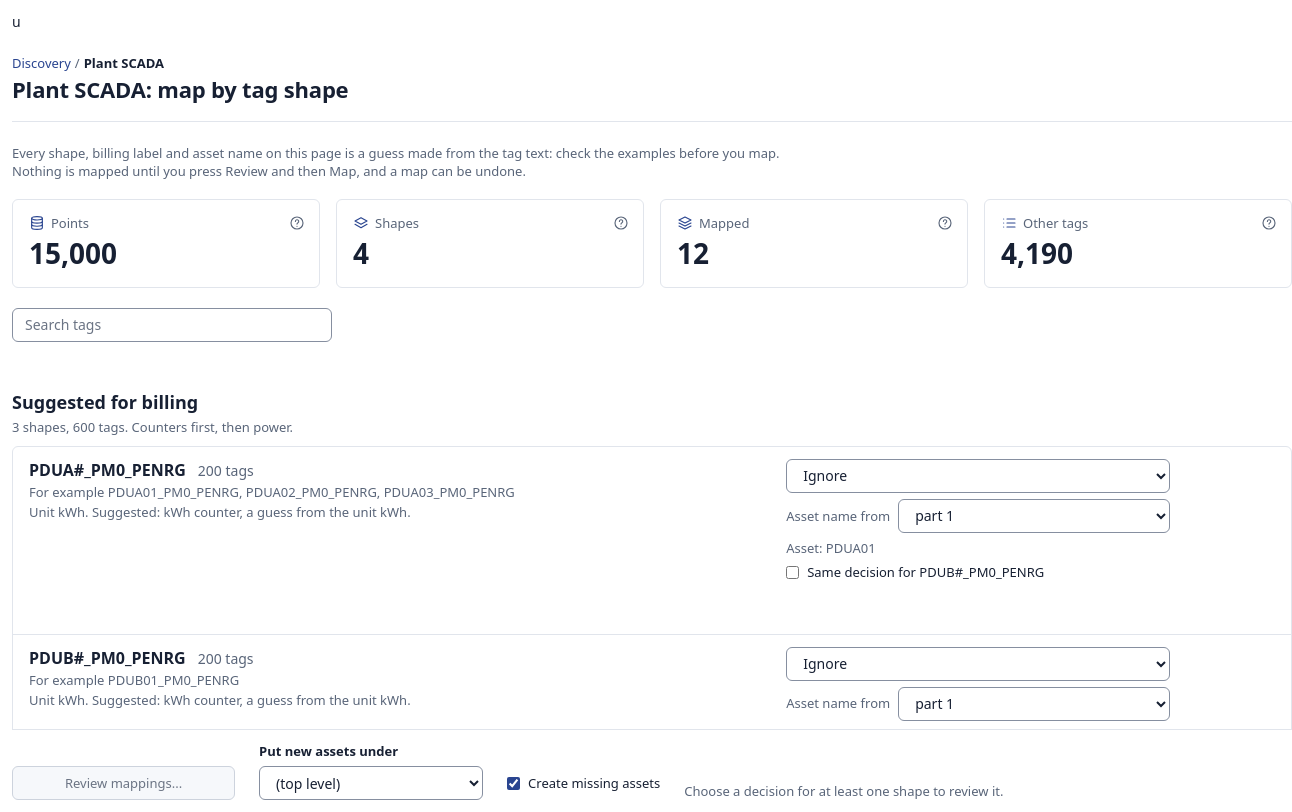
SourceShapesPage: the decisions › ticks Same decision for the similar shape: it copies the decision, keeps it in step while ticked and lets go when unticked
Expected: the heading "Plant SCADA: map by tag shape" is shown, [12, 74, 348, 104]
Expected: the element named "Shape PDUA#_PM0_PENRG" is shown, [13, 447, 1291, 635]
Select "Map as energy counter" in the dropdown named "Decision for PDUA#_PM0_PENRG" at (978,476), box [786, 459, 1170, 493]
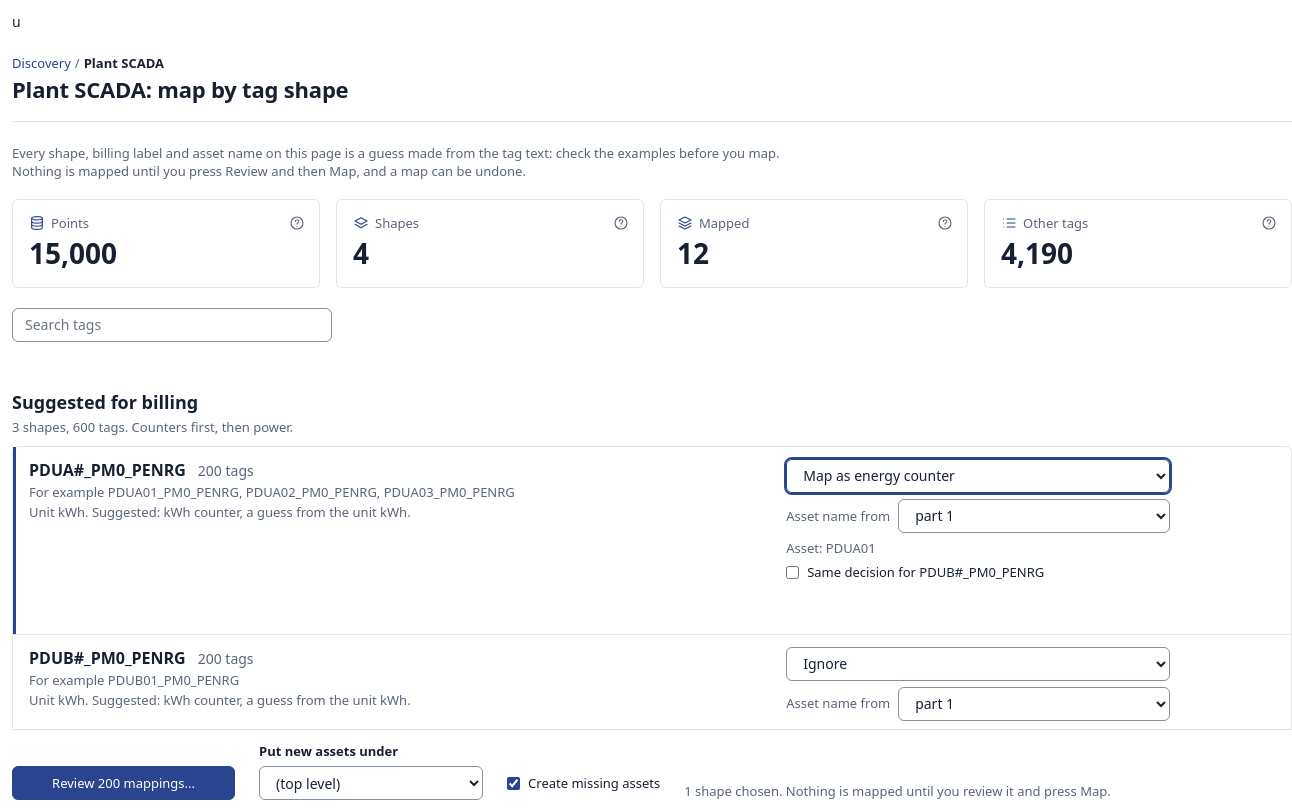
Click the checkbox labelled "Same decision for PDUB#_PM0_PENRG" at (793,572), box [786, 566, 799, 579]
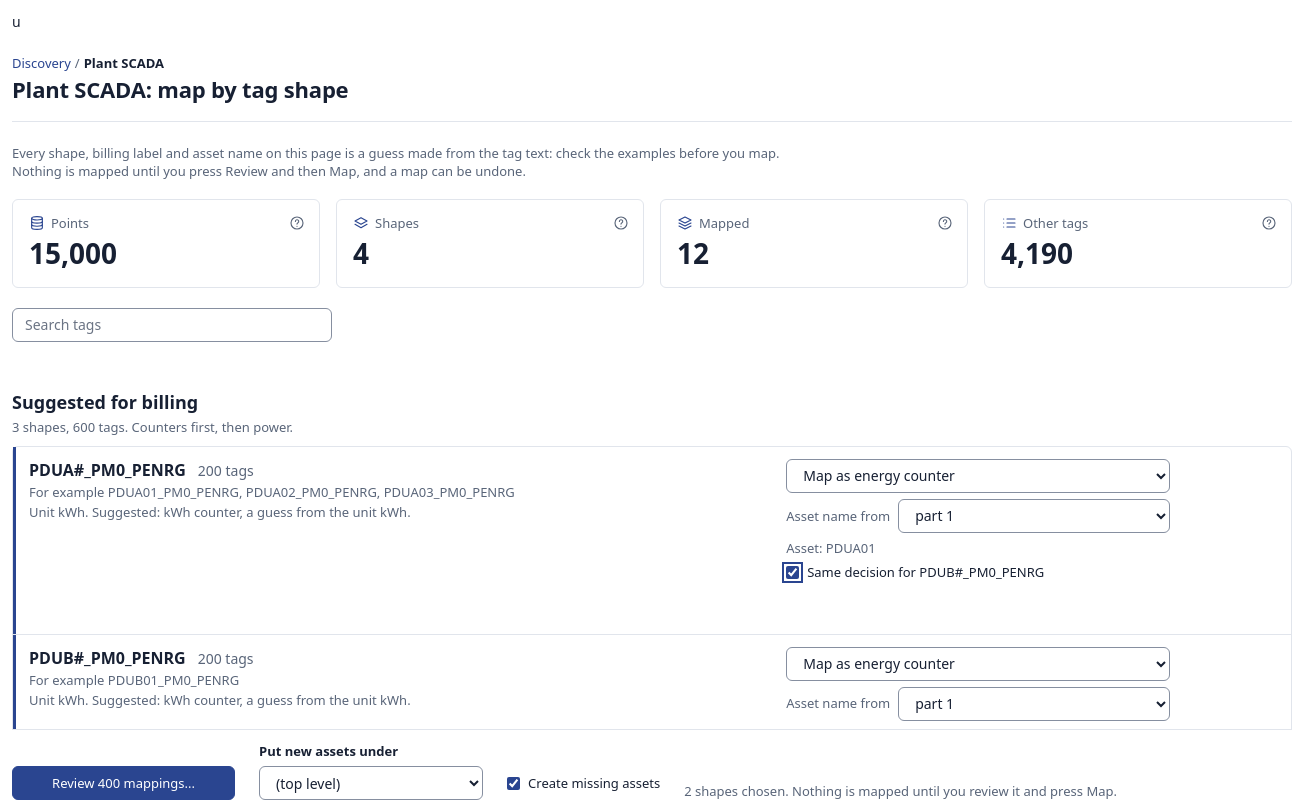
Select "Map as current" in the dropdown named "Decision for PDUA#_PM0_PENRG" at (978,476), box [786, 459, 1170, 493]
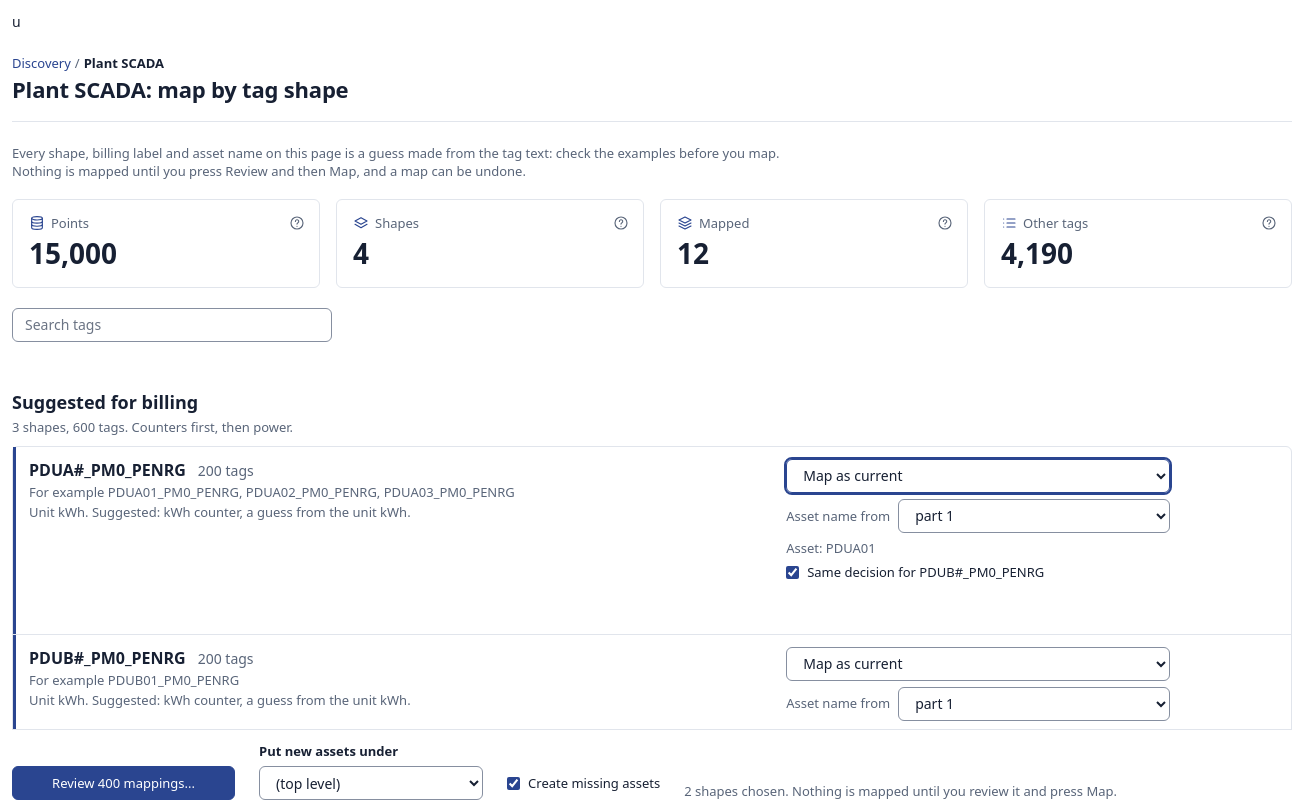
Click the checkbox labelled "Same decision for PDUB#_PM0_PENRG" at (793,572), box [786, 566, 799, 579]
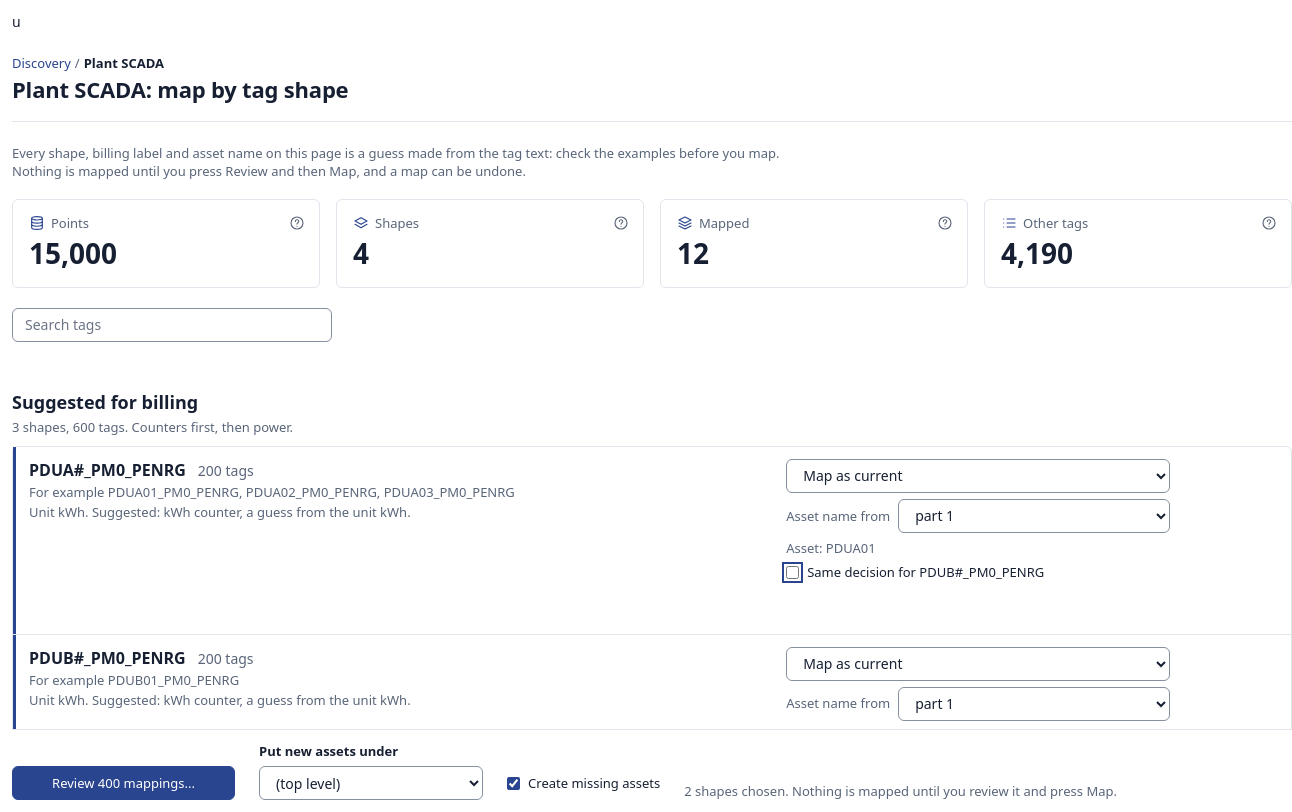
Select "Ignore" in the dropdown named "Decision for PDUA#_PM0_PENRG" at (978,476), box [786, 459, 1170, 493]
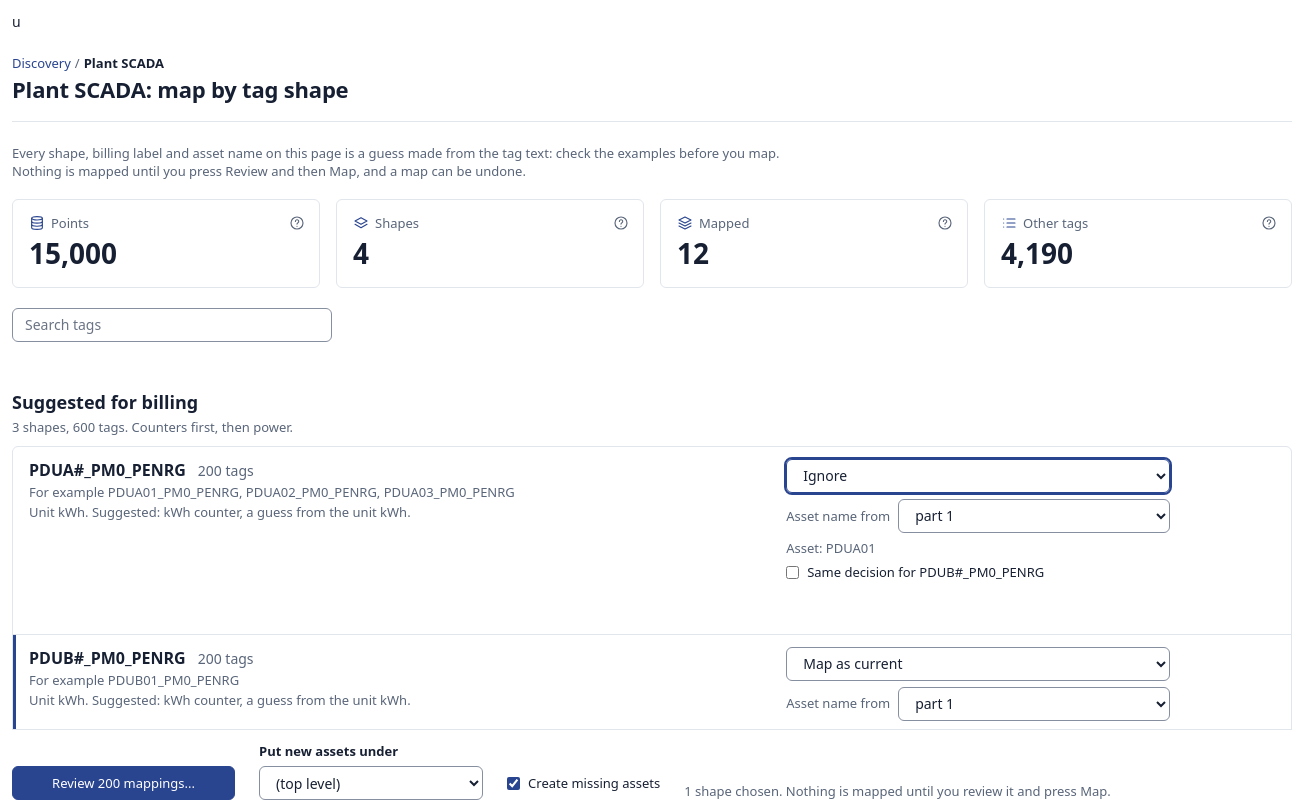
Now the button "Review 200 mappings..." is shown, box [12, 766, 235, 800]
